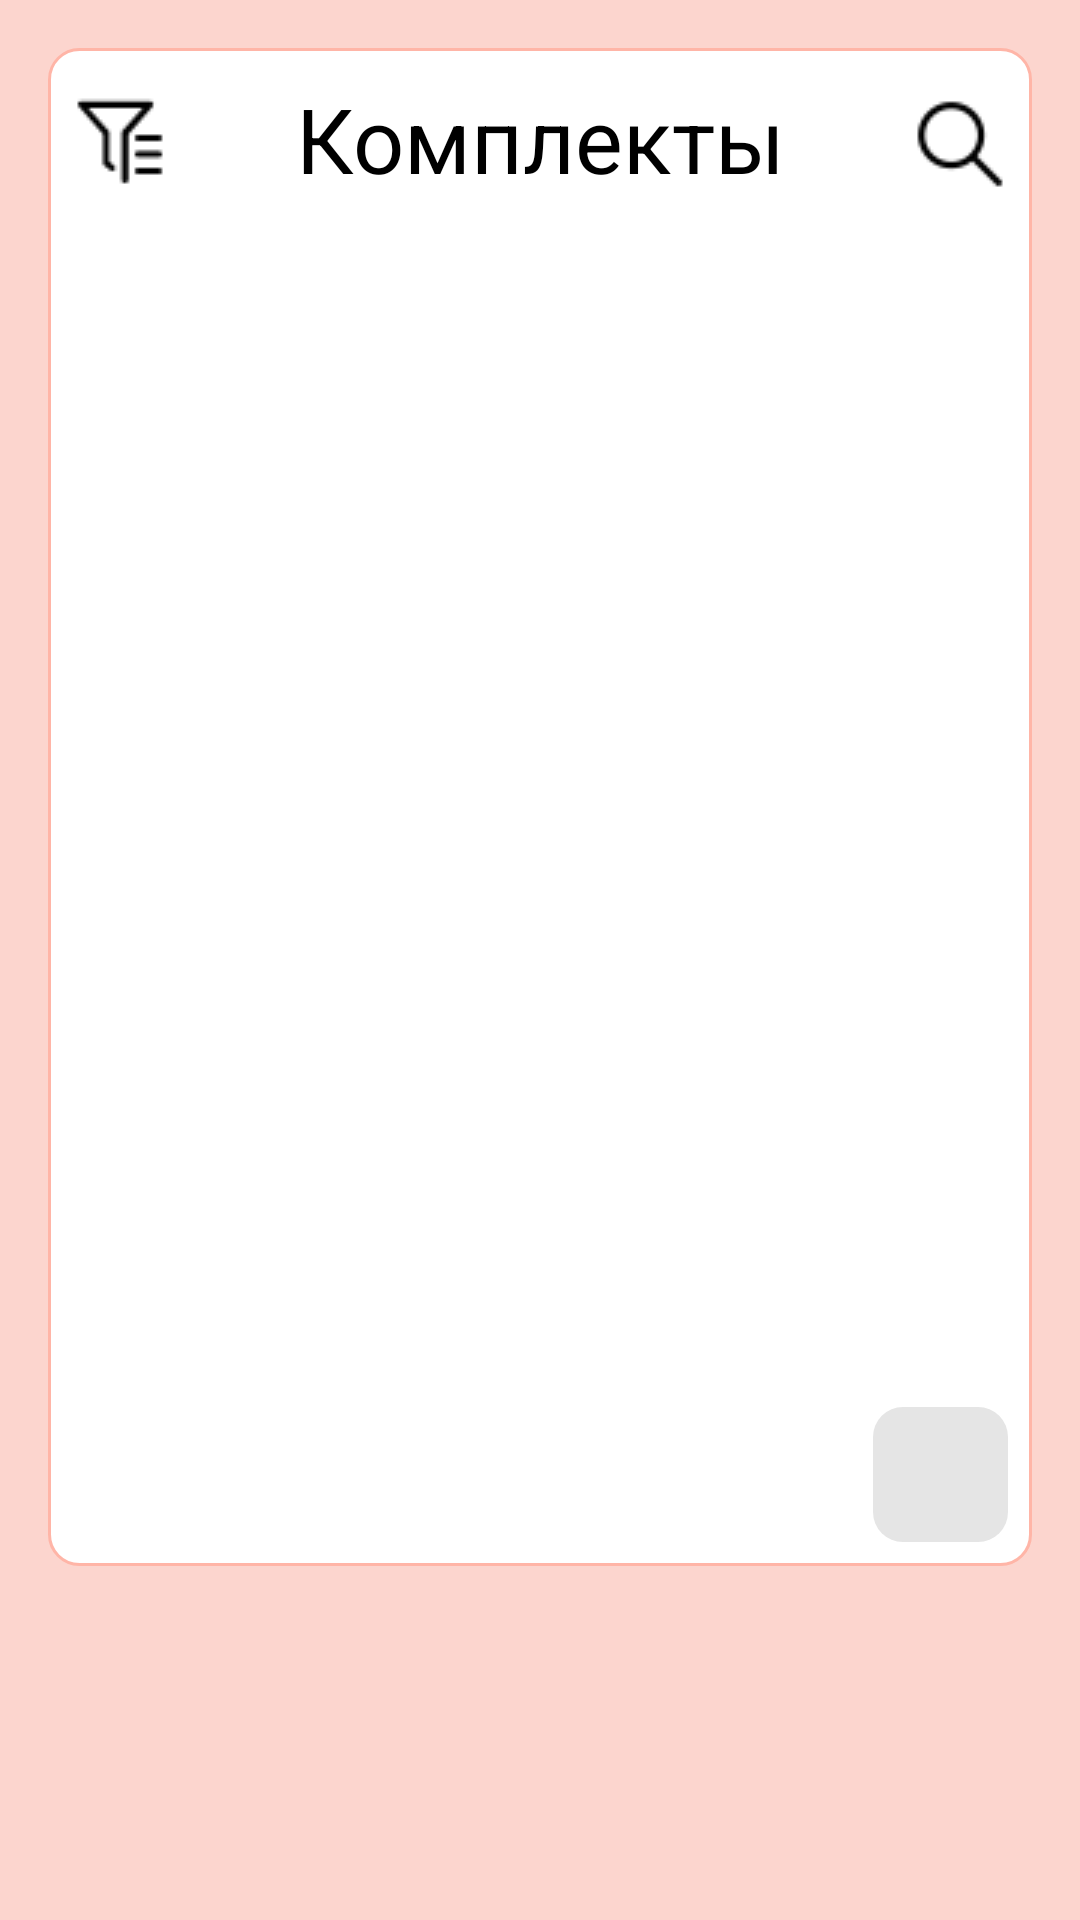

Point at icon controls on the screen. Image size 1080 × 1920, points as (x=x, y=y).
filter: (x=120, y=141)
search: (x=960, y=144)
